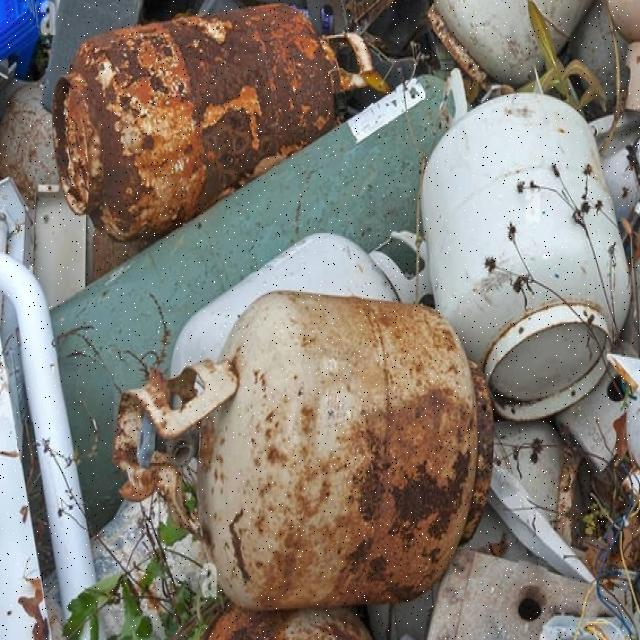cylinder: (113, 291, 495, 611), (50, 1, 390, 245), (423, 67, 631, 424)
